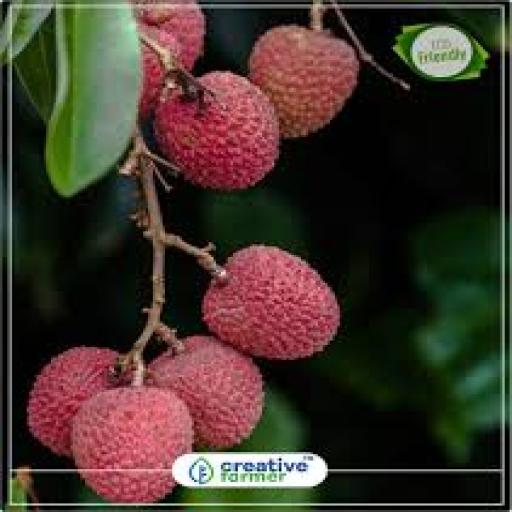lychee: (202, 247, 339, 359), (156, 71, 279, 190), (73, 386, 194, 503), (151, 337, 264, 447), (250, 26, 359, 137), (27, 348, 118, 456), (134, 0, 206, 68), (139, 41, 165, 117)
